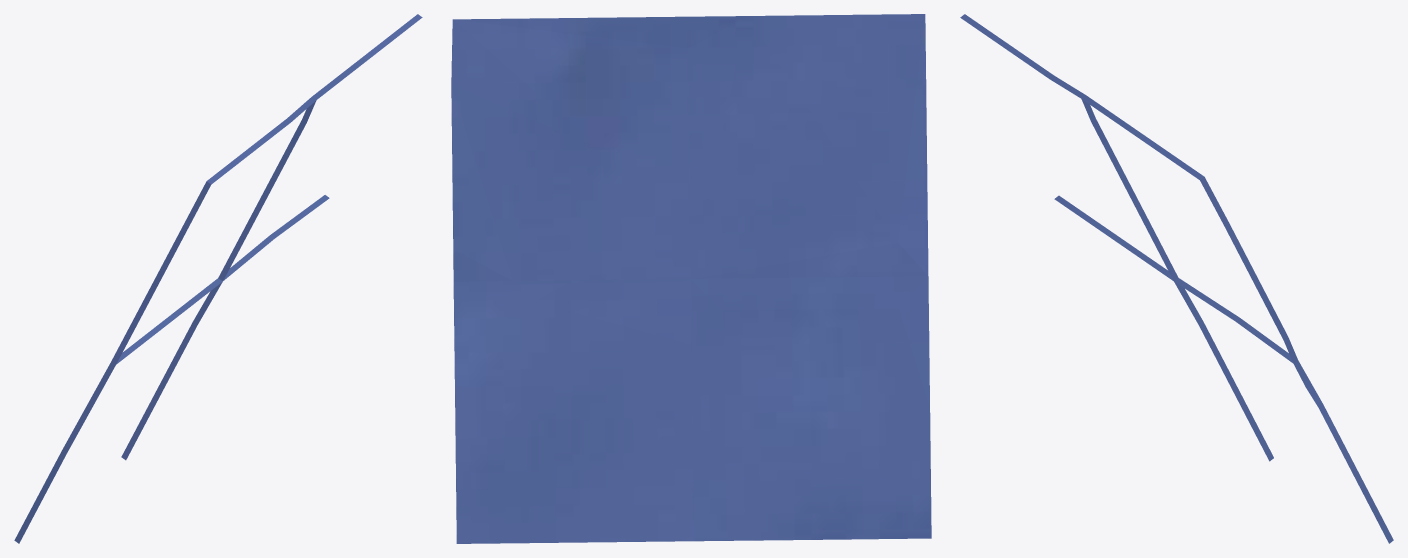
The picture shows the model from 3 angles, left to right: view 1: azimuth 30°, elevation 25°; view 2: azimuth 150°, elevation 25°; view 3: azimuth 270°, elevation 25°; orthographic projection. The views are drawn at different scales.
Size of the model in its own units: 19656 by 17772 by 16836.
Materials: 1 (1 with a texture image).
